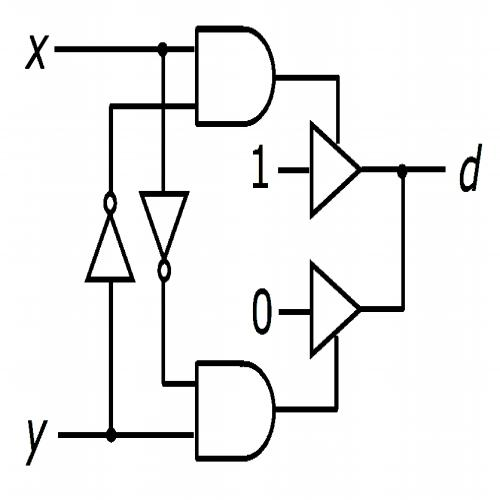and: (191, 352, 281, 466), (191, 17, 279, 132)
not: (138, 185, 191, 292), (82, 186, 137, 288)
